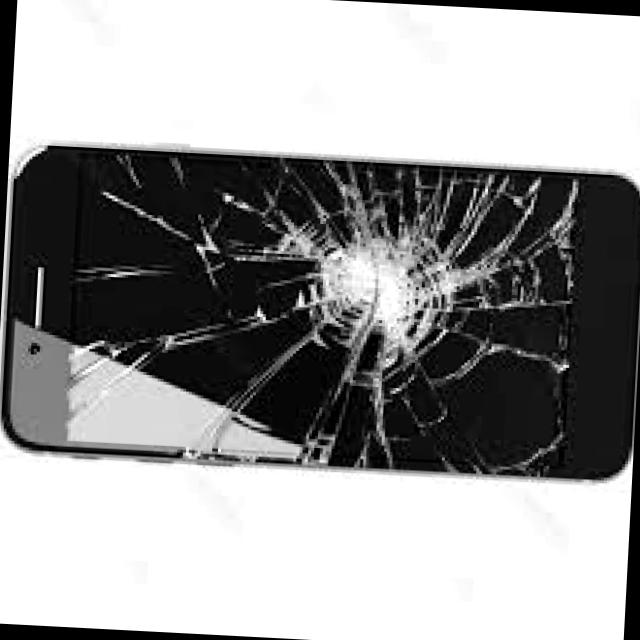Crack: (221, 137, 617, 454), (245, 147, 524, 377), (67, 124, 233, 440)
